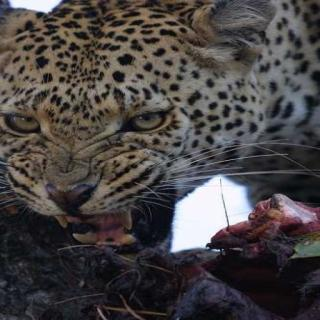Leopard: (8, 9, 320, 251)
